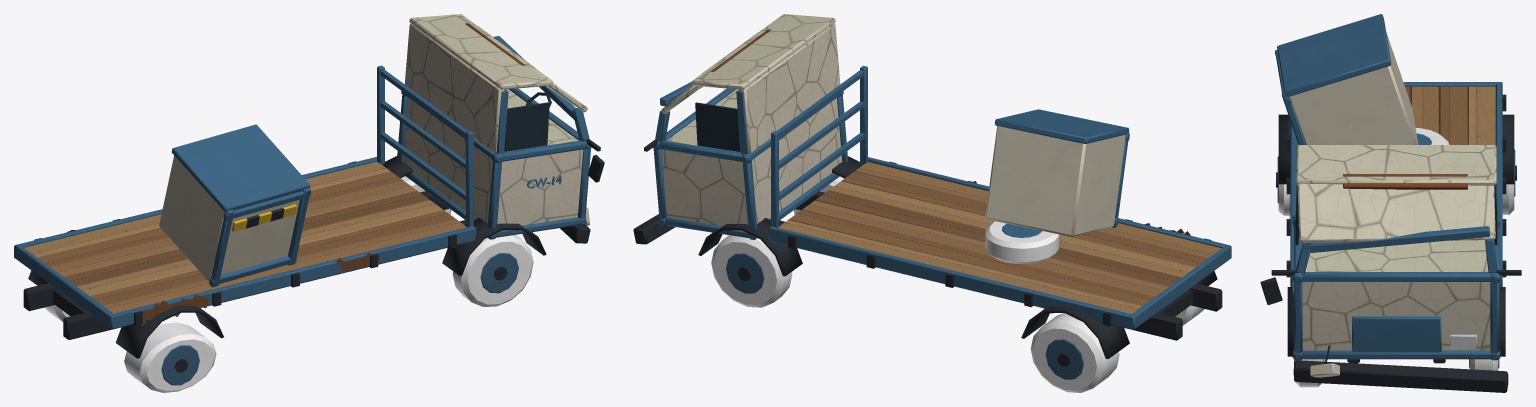
File: truck_wreck.glb
3 renders of one model, left to right at view 1: azimuth 30°, elevation 25°; view 2: azimuth 150°, elevation 25°; view 3: azimuth 270°, elevation 25°, orthographic. The views are drawn at different scales.
Parts seen in each view (by area): view 1: truck_wreck; view 2: truck_wreck; view 3: truck_wreck.
Boxes of the visible parts, <box> form: truck_wreck: <box>14,14,604,392</box>; truck_wreck: <box>633,14,1231,392</box>; truck_wreck: <box>1260,14,1521,392</box>.
Size of the model in its own units: 7.22 by 2.97 by 2.92.
Materials: 24 (24 with a texture image).
